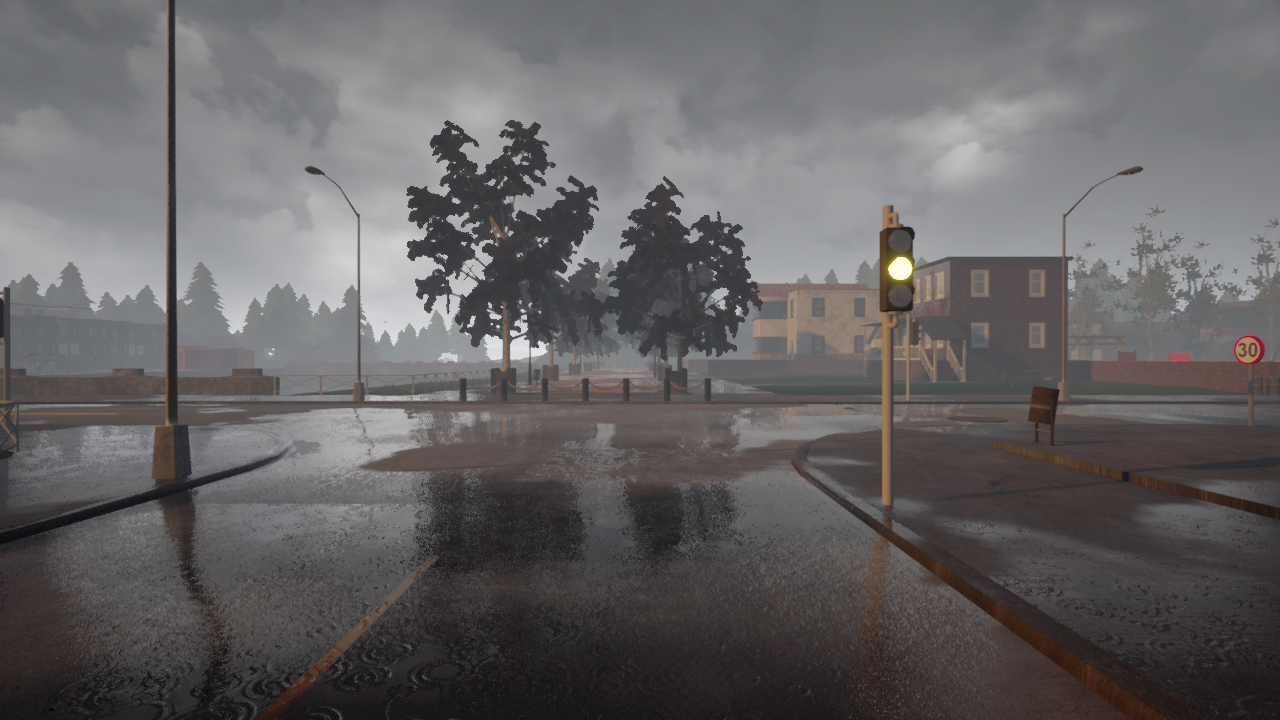yellow: (879, 223, 919, 316)
